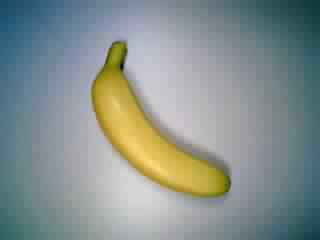banana: (88, 41, 238, 199)
